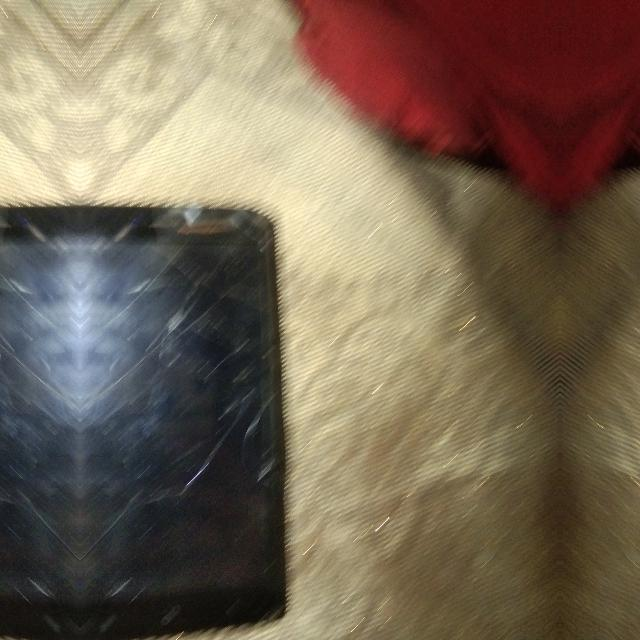phone_screen: (83, 204, 285, 630), (0, 204, 77, 630)
